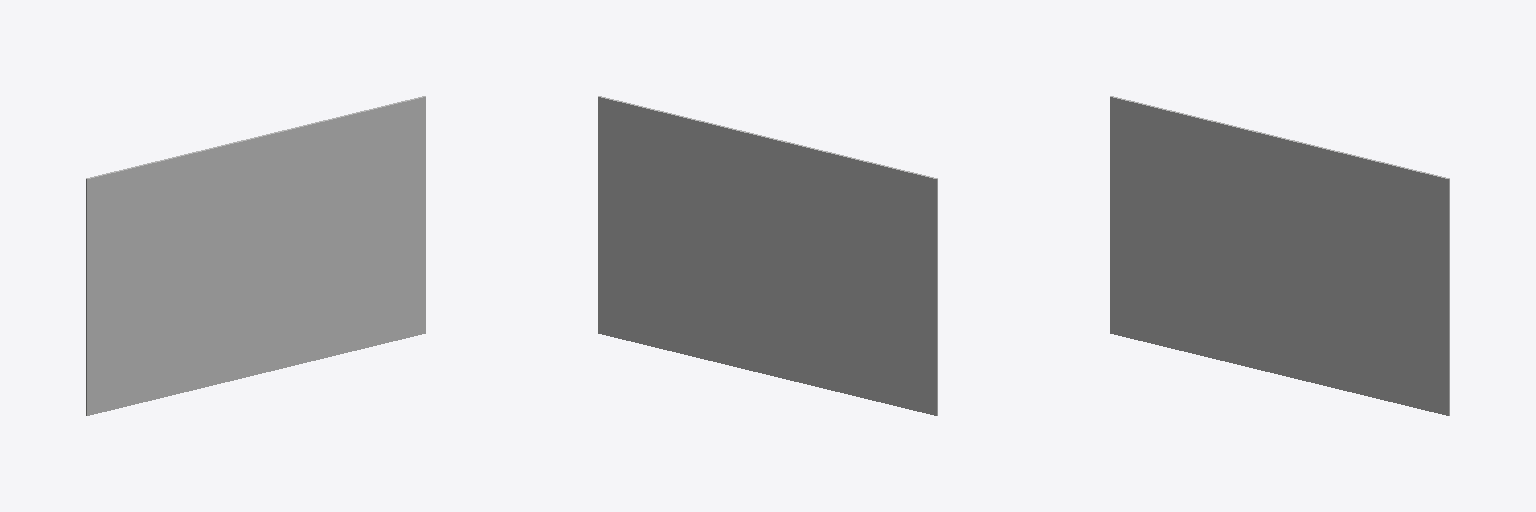
File: high_res_wall.obj
3 views of the same model, side by side, from view 1: azimuth 30°, elevation 25°; view 2: azimuth 150°, elevation 25°; view 3: azimuth 330°, elevation 25° (orthographic).
Parts seen in each view (by area): view 1: wall:wall; view 2: wall:wall; view 3: wall:wall.
Part boxes in pixels (left/top/right/bottom): wall:wall: left=86, top=96, right=425, bottom=415; wall:wall: left=598, top=96, right=937, bottom=415; wall:wall: left=1110, top=96, right=1449, bottom=415.
Bounding box in the file's own units: 150 × 100 × 1.